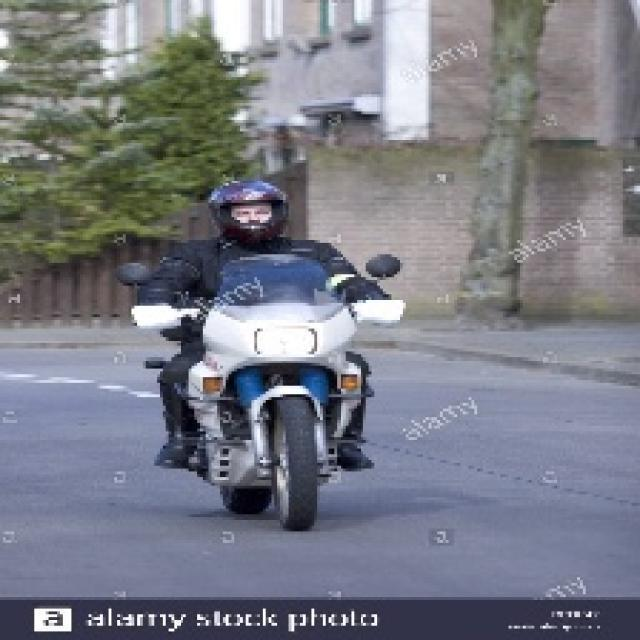bike: (132, 260, 378, 534)
